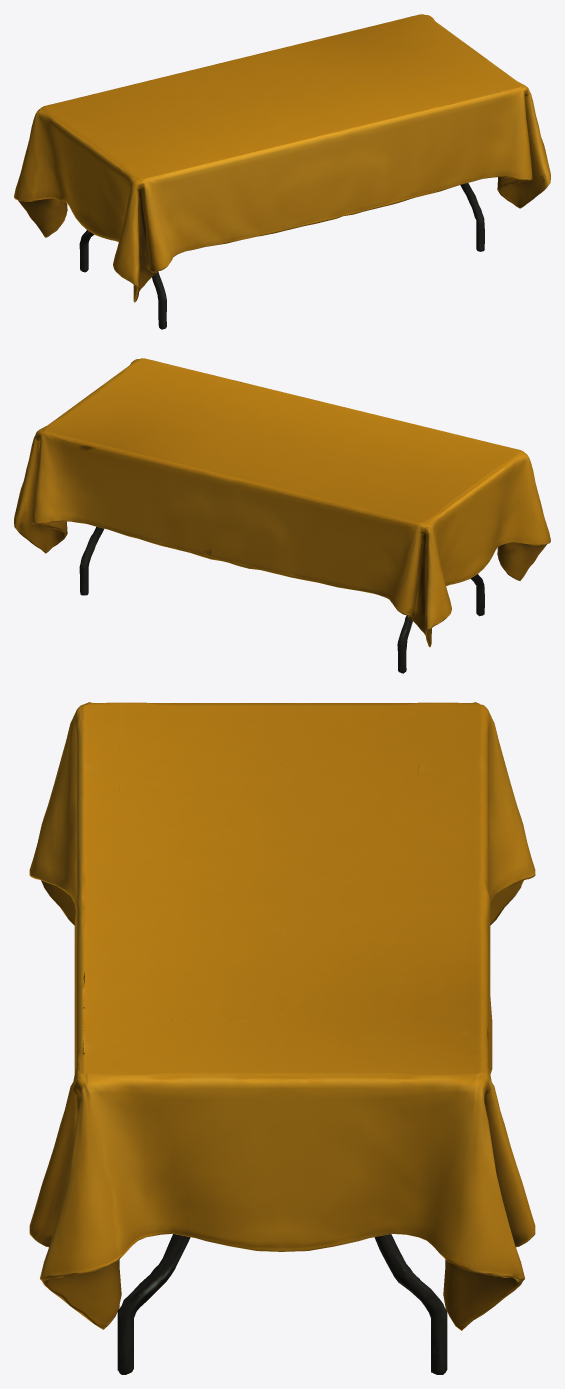
Rendered from BNQ_TBL_GOLD_HALF_DRO_0630194056_texture.glb.
3 renders of one model, top to bottom at view 1: azimuth 30°, elevation 25°; view 2: azimuth 150°, elevation 25°; view 3: azimuth 270°, elevation 25°, orthographic. The views are drawn at different scales.
Visible parts, largest first — view 1: Mesh_0.002; view 2: Mesh_0.002; view 3: Mesh_0.002.
Boxes of the visible parts, left/top/right/bottom form: Mesh_0.002: left=14, top=14, right=550, bottom=329; Mesh_0.002: left=14, top=358, right=550, bottom=673; Mesh_0.002: left=29, top=702, right=535, bottom=1374.
Bounding box in the file's own units: 2.1 × 0.762 × 1.06.
1 material, 1 textured.
